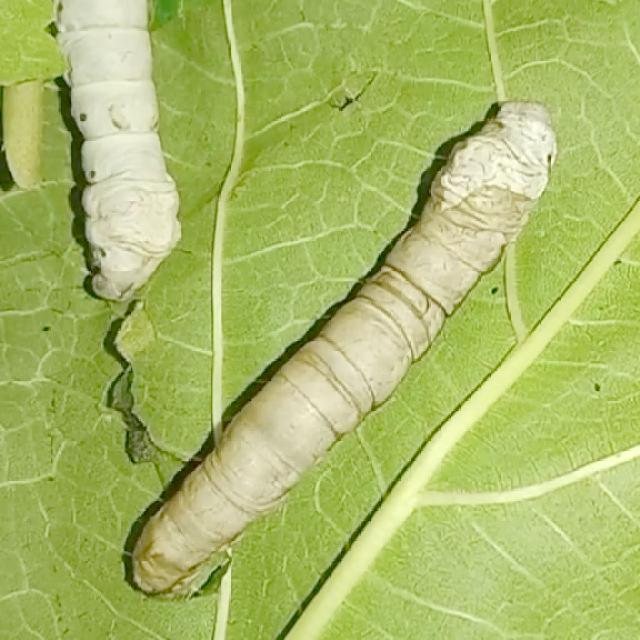Grasserie: (125, 35, 640, 616)
